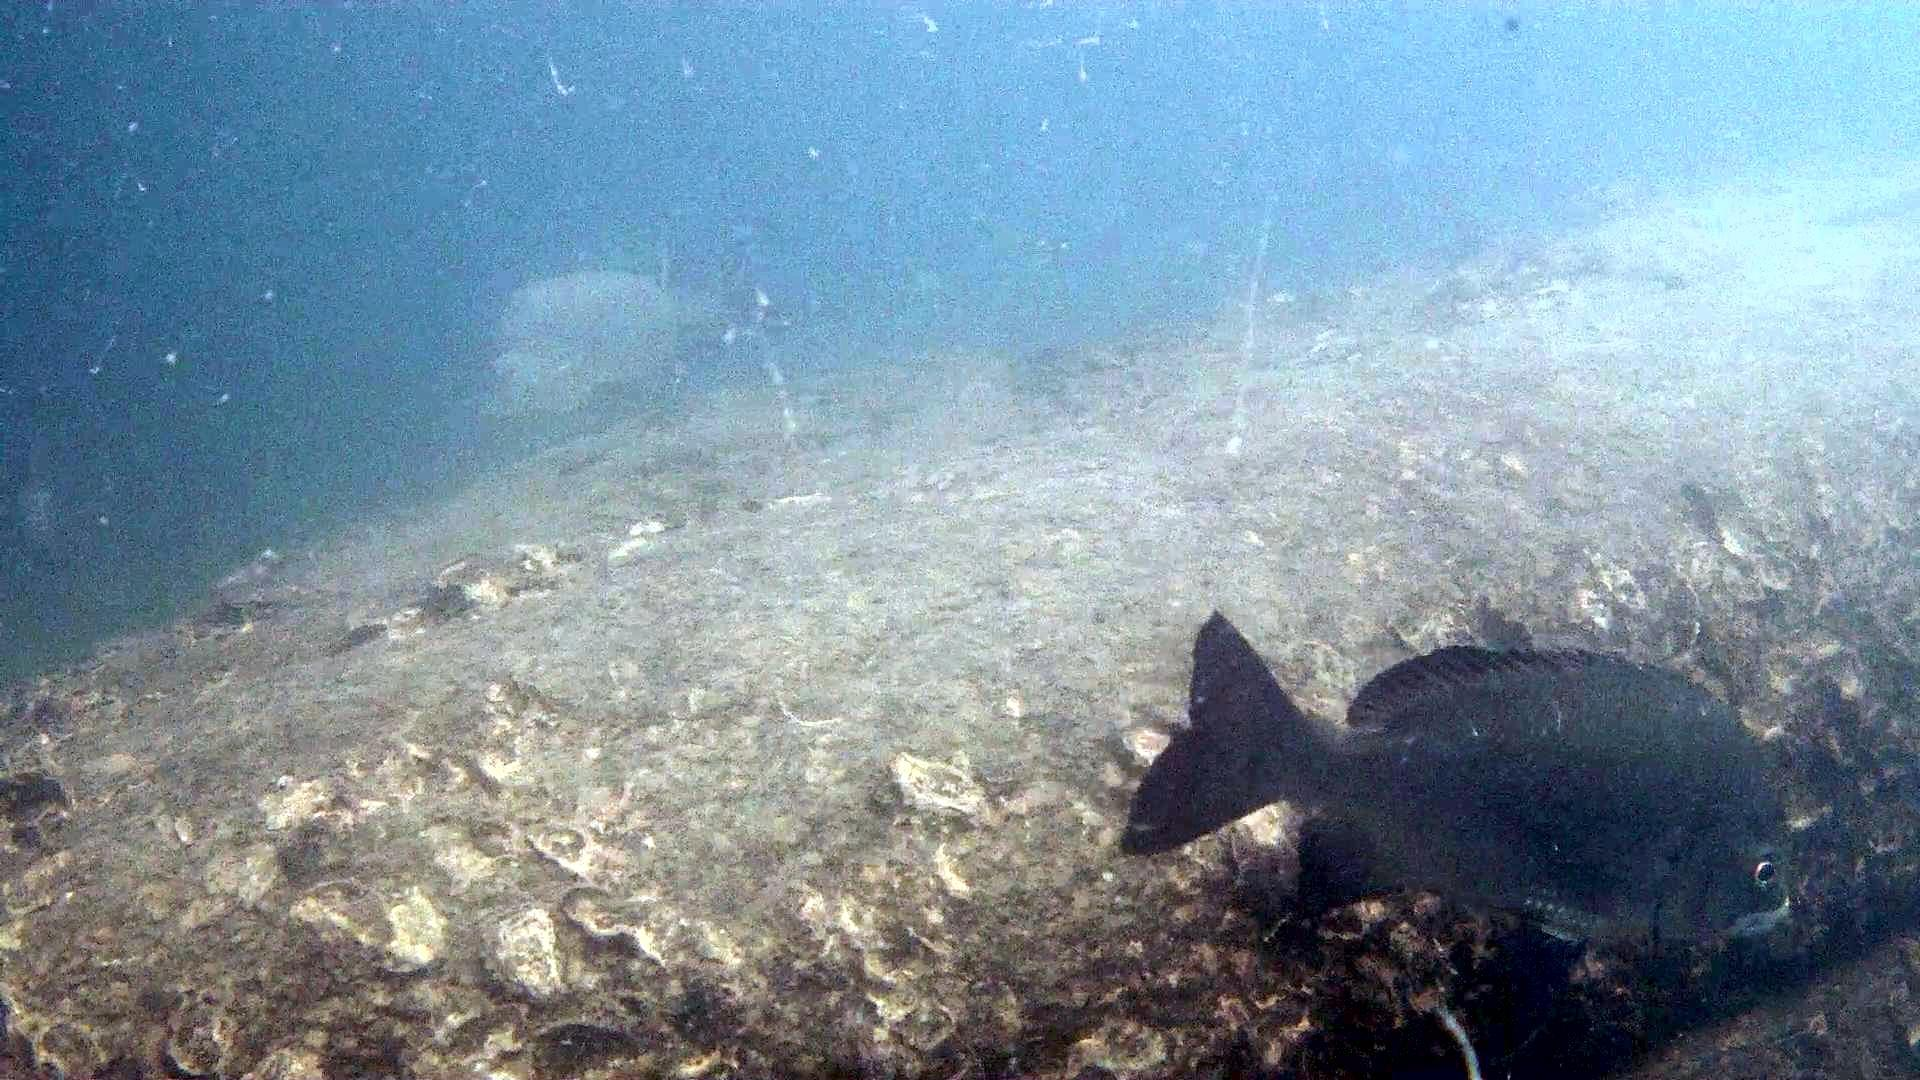acanthopagrus palmaris: (1116, 593, 1824, 1010)
